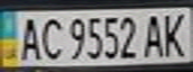2: (118, 12, 142, 60)
5: (84, 14, 106, 61), (103, 12, 124, 61)
9: (63, 14, 87, 61)
A: (139, 11, 169, 60), (15, 14, 42, 62)
C: (36, 15, 66, 61)
K: (157, 9, 190, 58)
